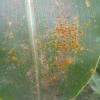Corn rust leaf: (1, 1, 99, 100)
